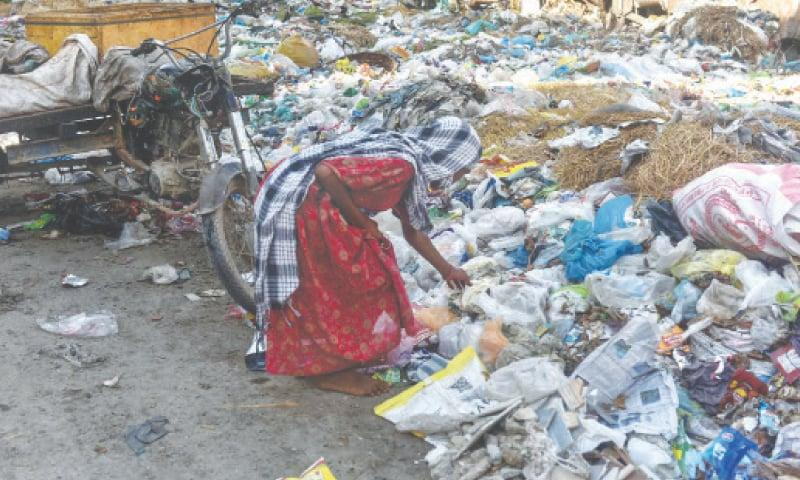garbage: (233, 0, 800, 480)
